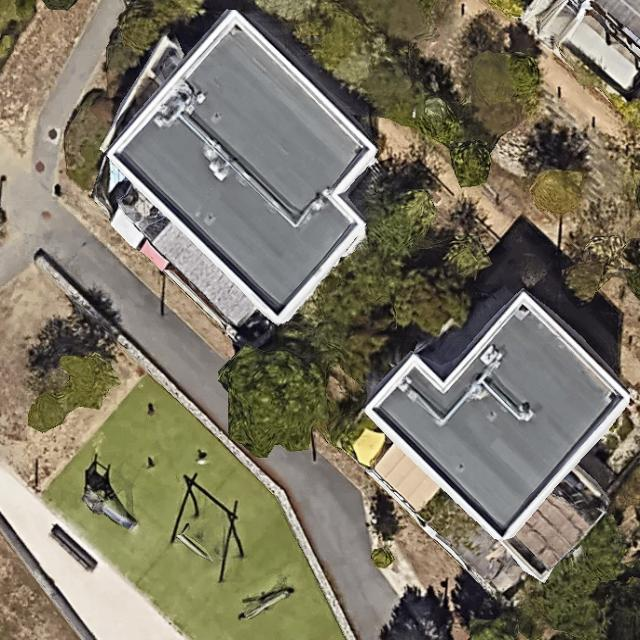immeuble: (84, 0, 419, 330), (357, 259, 640, 584)
